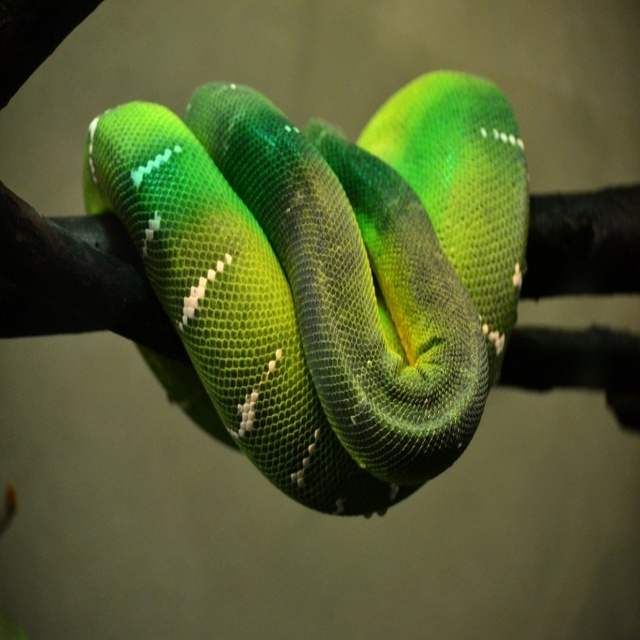Snake: (82, 78, 531, 518)
